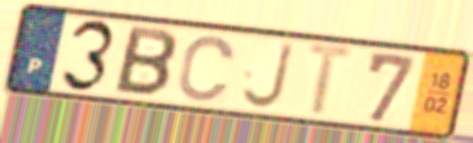3: (55, 17, 120, 94)
7: (364, 48, 419, 125)
B: (110, 23, 180, 100)
C: (174, 33, 238, 105)
J: (238, 40, 296, 112)
T: (303, 40, 360, 119)
